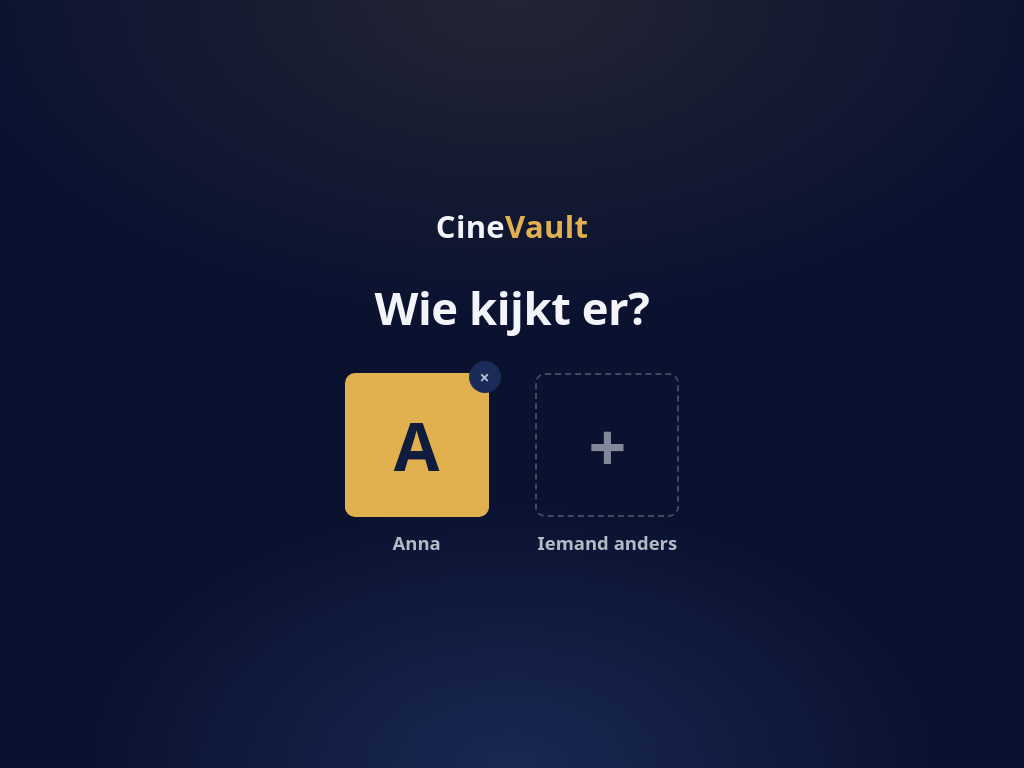
signing in › asks who is watching, and says when the password is wrong
Expected: the heading "Wie kijkt er?" is shown, [375,281,649,334]
Click the button "A Anna" at (417, 465), box [337,366,497,565]
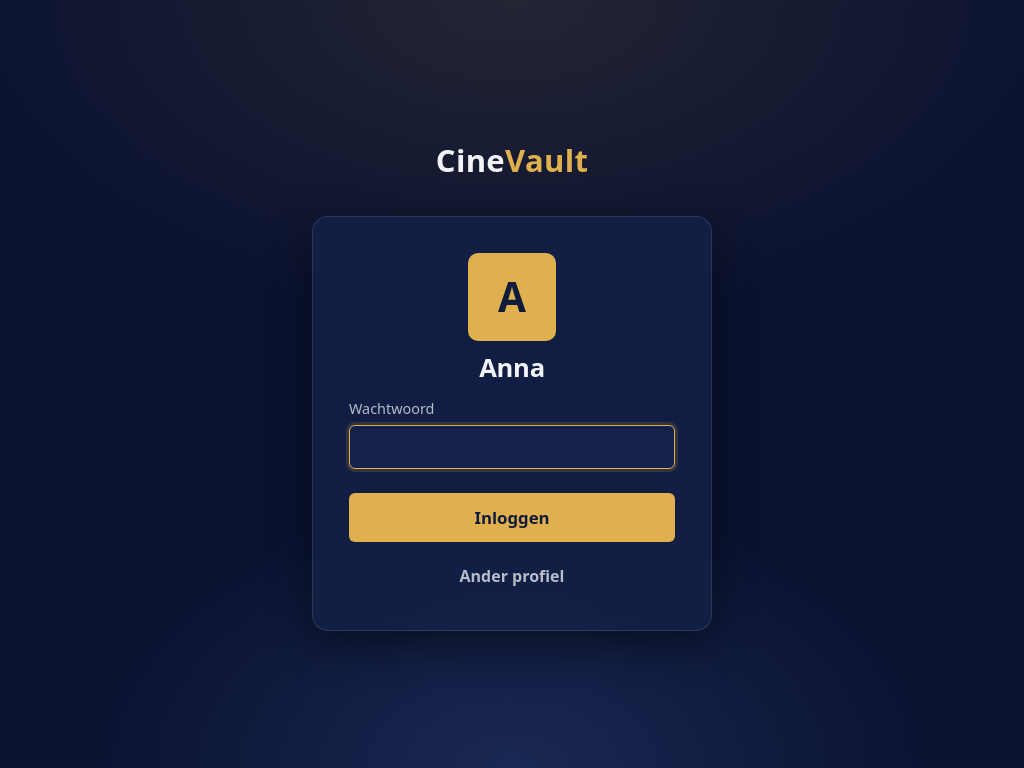
Type "verkeerd-wachtwoord" into the password field labelled "Wachtwoord" at (512, 447), box [349,425,675,469]
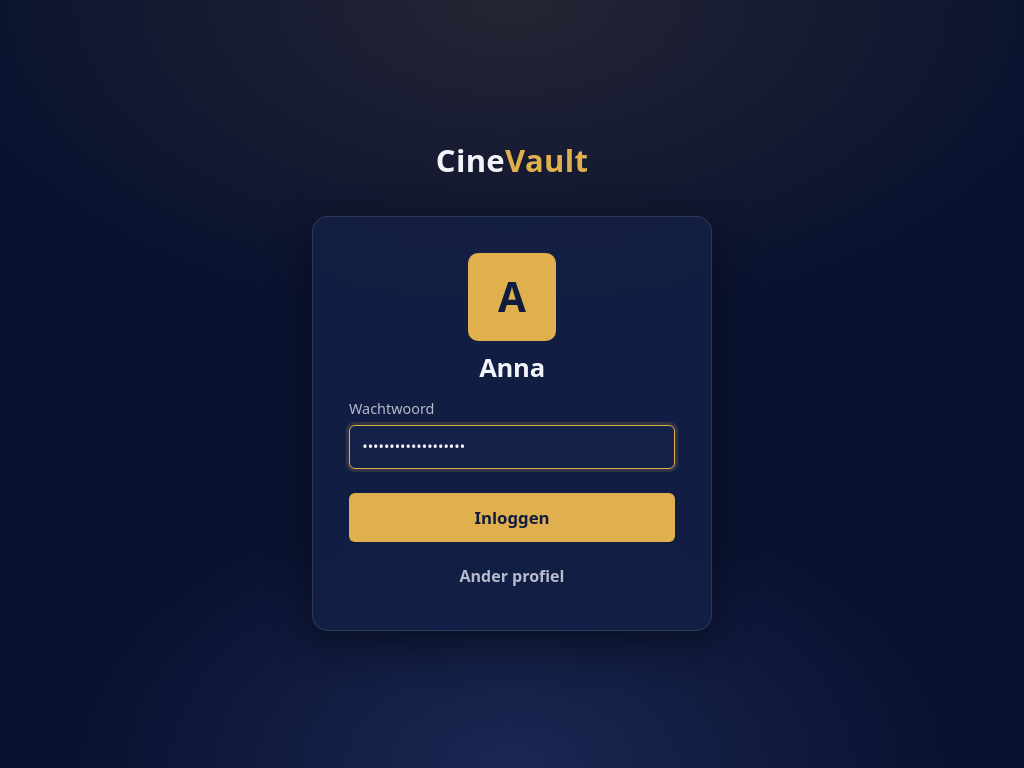
Click the button "Inloggen" at (512, 518), box [349,493,675,542]
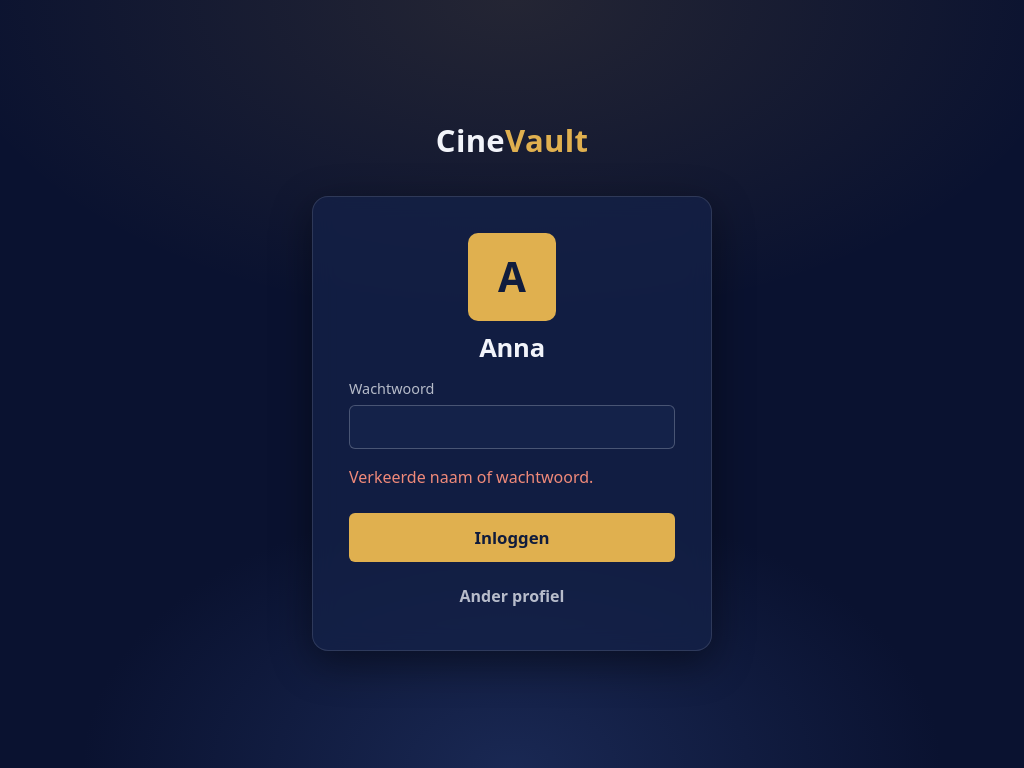
Now the message reads "Verkeerde naam of wachtwoord.", box [349,466,593,488]
Type "een-lang-wachtwoord" into the password field labelled "Wachtwoord" at (512, 427), box [349,405,675,449]
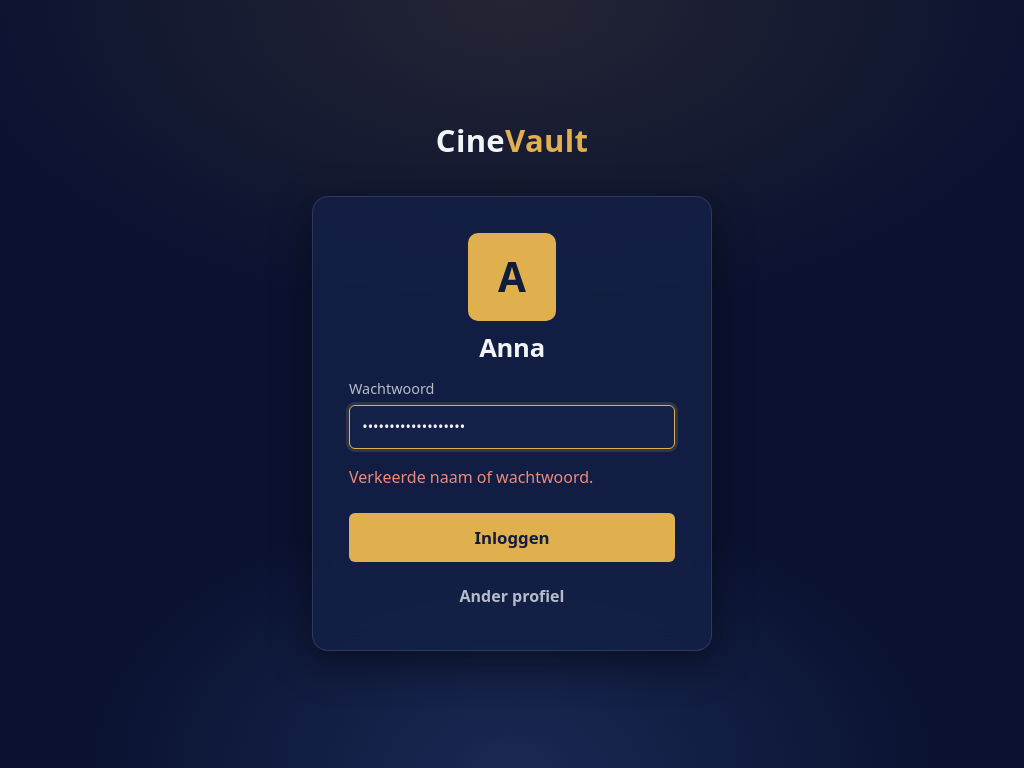
Click the button "Inloggen" at (512, 538), box [349,513,675,562]
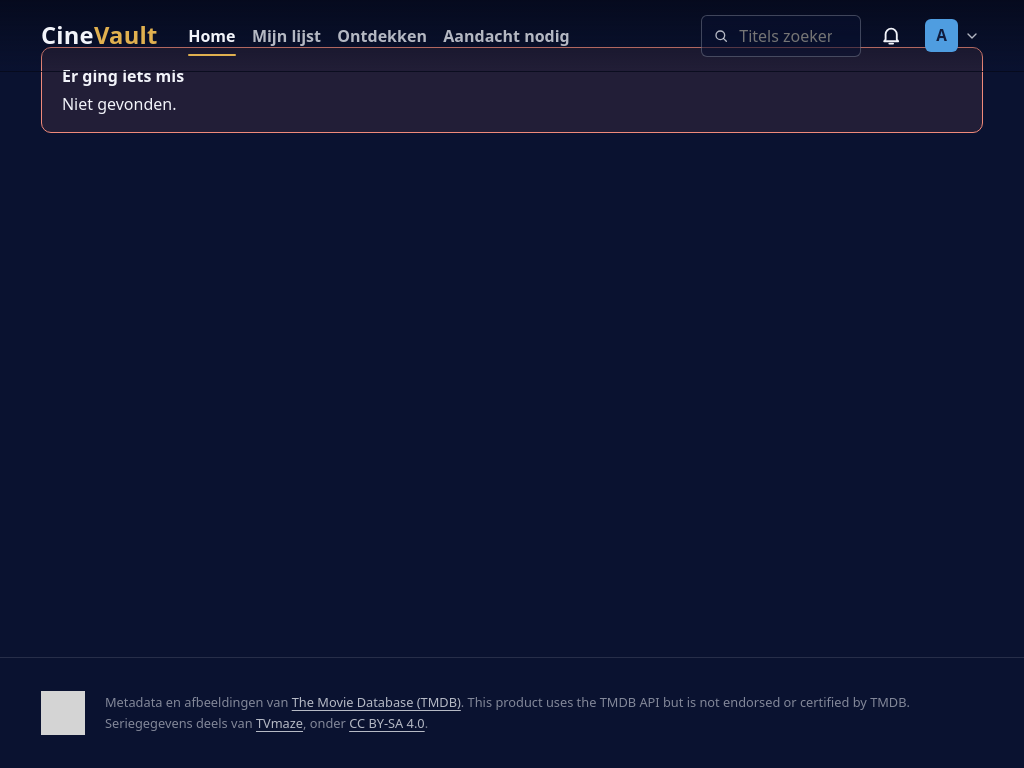
Now the button named "Profiel van Anna" is shown, box [922,16,983,56]
